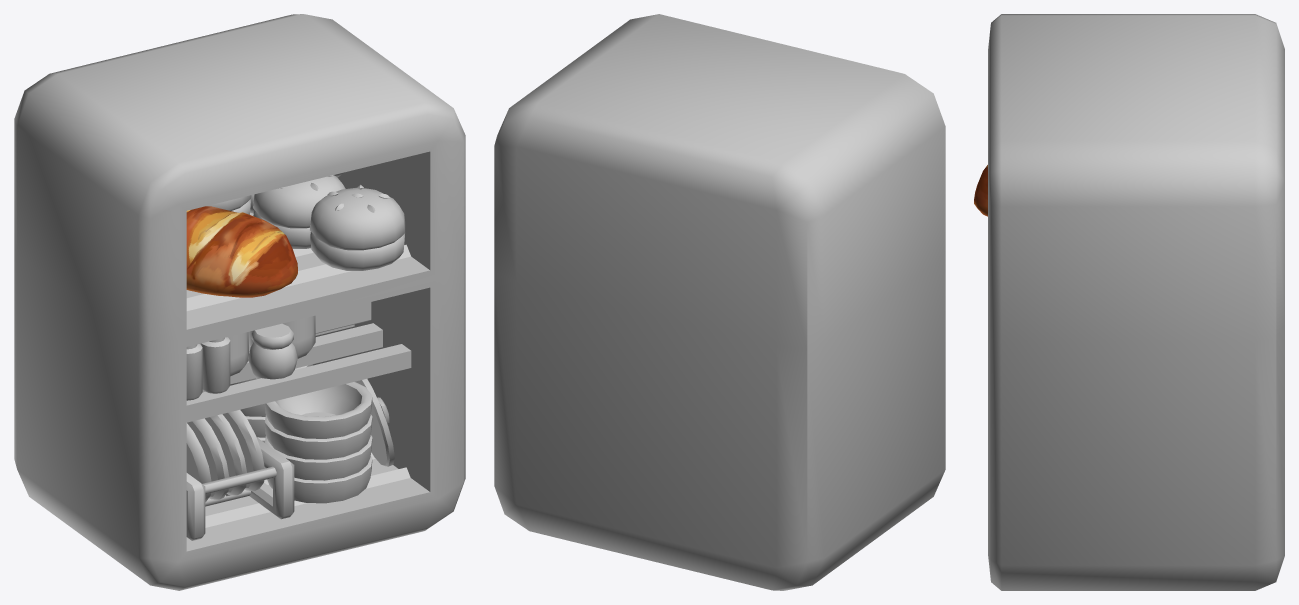
File: pantry.obj
The picture shows the model from 3 angles, left to right: view 1: azimuth 30°, elevation 25°; view 2: azimuth 150°, elevation 25°; view 3: azimuth 270°, elevation 25°; orthographic projection. The views are drawn at different scales.
Visible parts, largest first — view 1: fridge_A_Cube.001, dishrack_plates_Cylinder.002, Sphere.002, food_ingredient_bun_Cube.001, bowl_Sphere.004, food_ingredient_bun_Cube.004, bowl_Sphere.003, jar_C_small_Cylinder.267, bowl_Sphere.005, bowl_Sphere.002, ketchup_Cylinder.157, lid_A_Cylinder.001 (+4 smaller); view 2: fridge_A_Cube.001; view 3: fridge_A_Cube.001, Sphere.002.
Part boxes in pixels (x1,y1,x2,y2): fridge_A_Cube.001: [14, 14, 465, 590]; dishrack_plates_Cylinder.002: [186, 410, 294, 540]; Sphere.002: [186, 206, 297, 297]; food_ingredient_bun_Cube.001: [310, 184, 405, 270]; bowl_Sphere.004: [265, 382, 372, 438]; food_ingredient_bun_Cube.004: [253, 175, 345, 248]; bowl_Sphere.003: [264, 414, 372, 459]; jar_C_small_Cylinder.267: [248, 323, 297, 379]; bowl_Sphere.005: [265, 456, 372, 503]; bowl_Sphere.002: [265, 435, 372, 480]; ketchup_Cylinder.157: [200, 337, 230, 393]; lid_A_Cylinder.001: [355, 379, 394, 466]; fridge_A_Cube.001: [494, 14, 945, 590]; fridge_A_Cube.001: [988, 14, 1284, 590]; Sphere.002: [974, 165, 987, 216].
Bounding box in the file's own units: 2 × 2.5 × 1.57.
